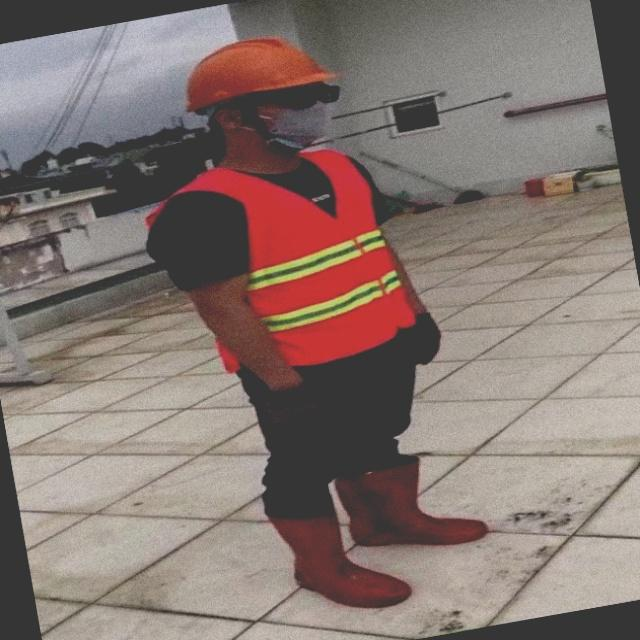Capacete: (186, 37, 336, 112)
Colete: (174, 150, 414, 365)
Oculos: (260, 83, 339, 109)
